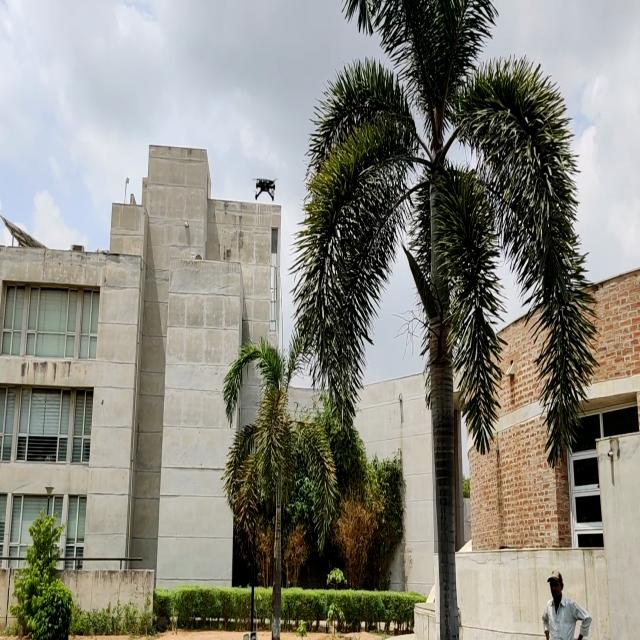drone: (249, 172, 283, 205)
